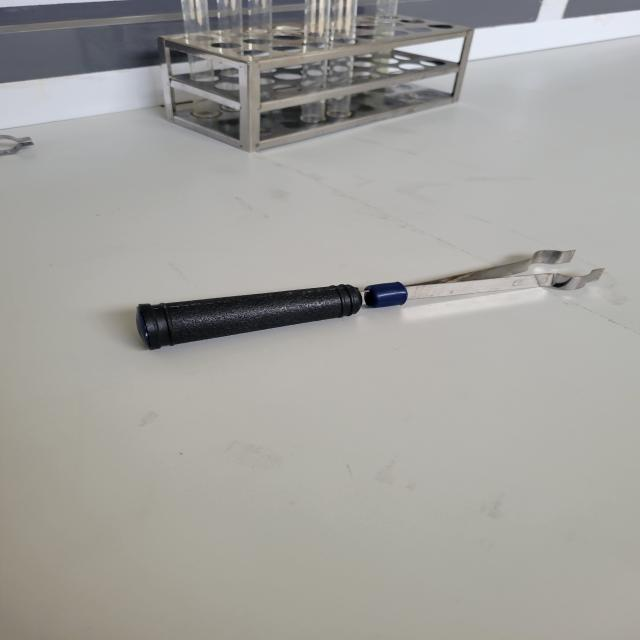TestTube_Holder: (113, 226, 617, 391)
